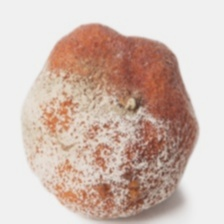orange: (22, 12, 223, 203)
